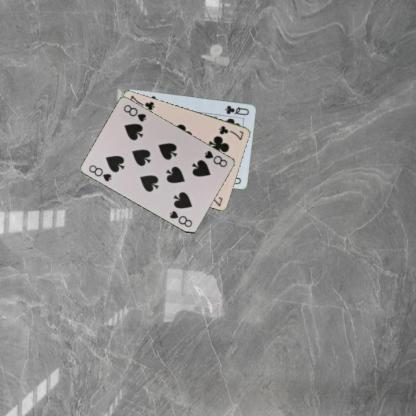7c: (217, 123, 245, 142)
8s: (86, 162, 113, 183), (202, 148, 229, 168)
Qc: (223, 103, 250, 116)
